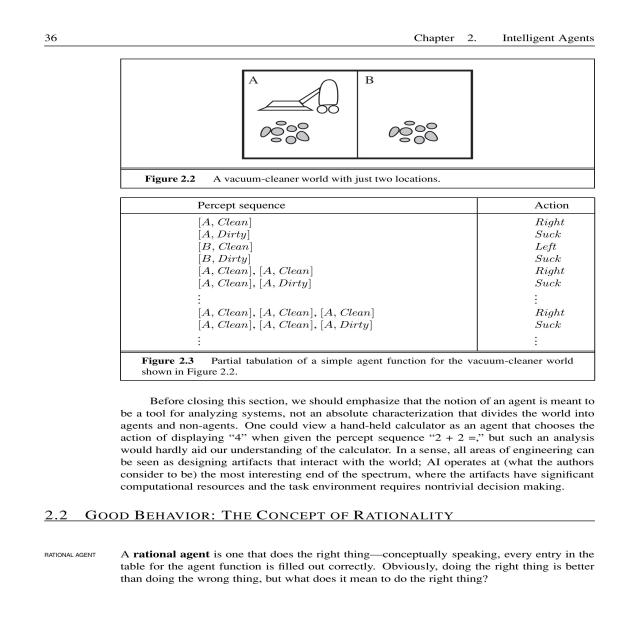diagram: (122, 60, 578, 188)
